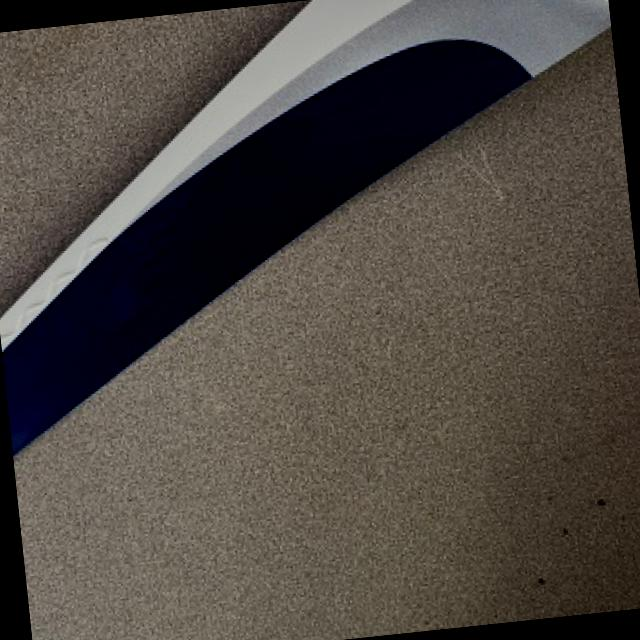healthy: (15, 30, 640, 640), (0, 0, 610, 446)
